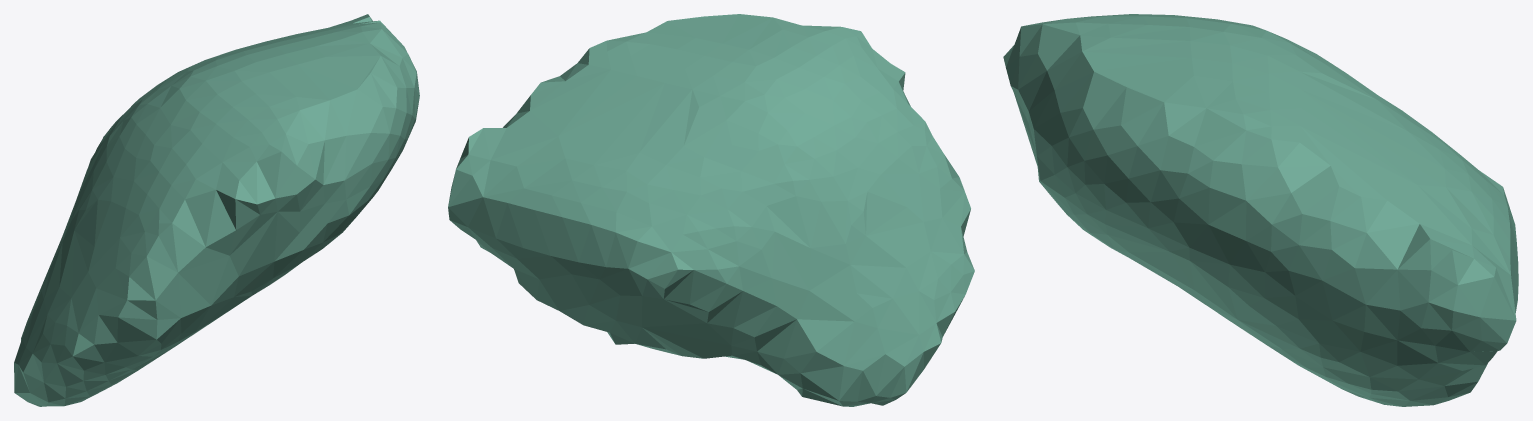
Rendered from Model_10235_LH__Subthalamic_nucleus_(STh).obj.
3 views of the same model, side by side, from view 1: azimuth 30°, elevation 25°; view 2: azimuth 150°, elevation 25°; view 3: azimuth 270°, elevation 25° (orthographic). The views are drawn at different scales.
Bounding box in the file's own units: 1.48 × 1.01 × 1.19.
